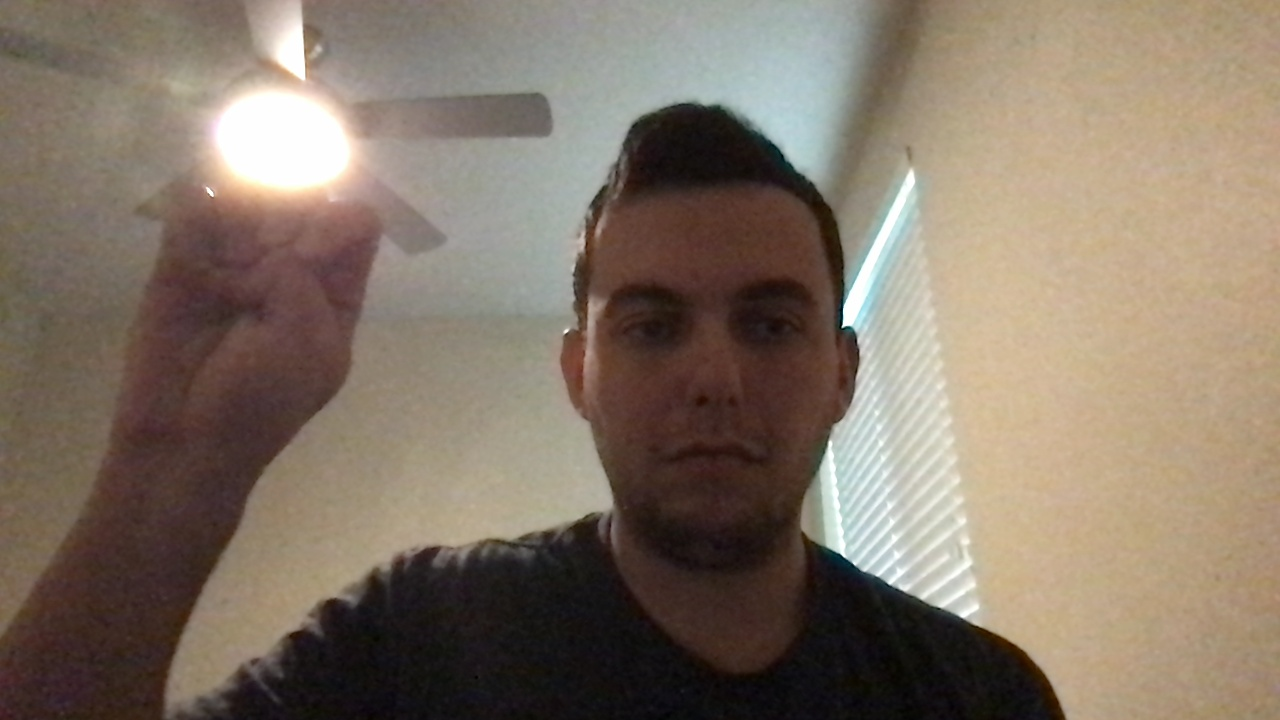e: (81, 173, 403, 468)
